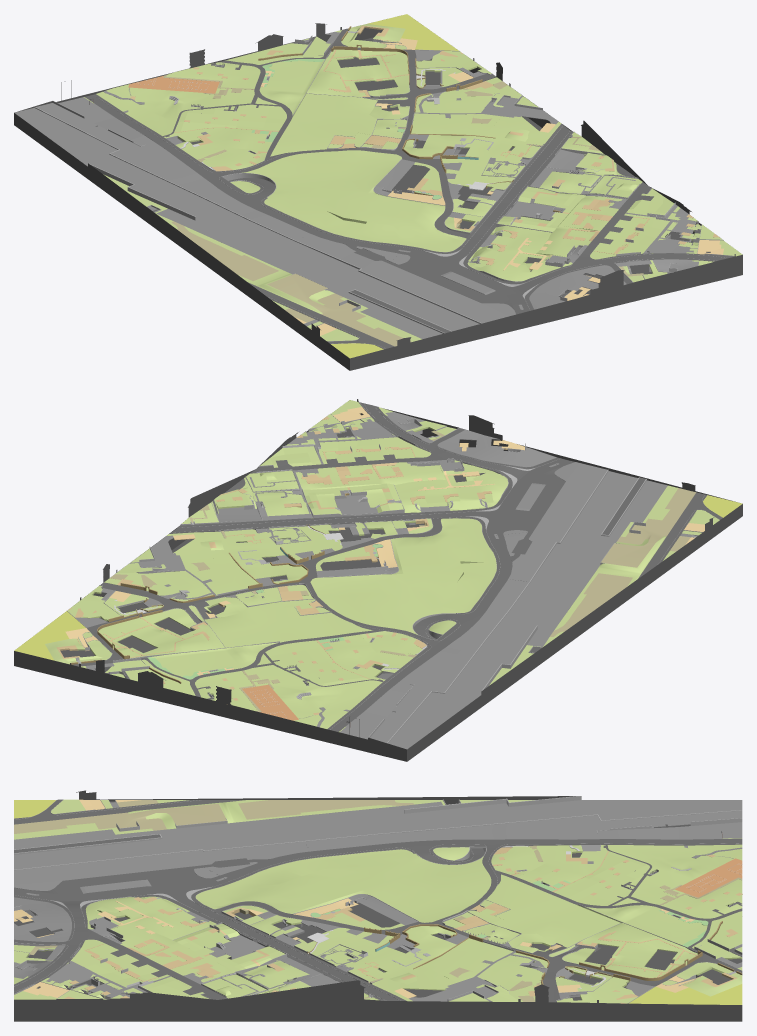
Rendered from altdorf_Terrain_v8.fbx.
The picture shows the model from 3 angles, top to bottom: view 1: azimuth 30°, elevation 25°; view 2: azimuth 150°, elevation 25°; view 3: azimuth 270°, elevation 25°; orthographic projection. The views are drawn at different scales.
Parts seen in each view (by area): view 1: Plane.1310, Plane.1398, Plane.1384, Plane.1395, Plane.799, Plane.1337, Plane.1319, Plane.1405, Plane.1393, Plane.1017, Plane.869, Plane.1347 (+36 smaller); view 2: Plane.1310, Plane.1398, Plane.1384, Plane.1395, Plane.1319, Plane.1337, Plane.799, Plane.1405, Plane.1393, Plane.1017, Plane.1347, Plane.869 (+35 smaller); view 3: Plane.1310, Plane.1398, Plane.1384, Plane.1395, Plane.1337, Plane.799, Plane.1405, Plane.1319, Plane.1393, Plane.869, Plane.1017, Plane.1347 (+50 smaller).
Boxes of the visible parts, <box> form: Plane.1310: <box>14,23,742,370</box>; Plane.1398: <box>242,93,466,252</box>; Plane.1384: <box>14,108,479,339</box>; Plane.1395: <box>36,97,310,240</box>; Plane.799: <box>96,62,260,136</box>; Plane.1337: <box>404,116,561,191</box>; Plane.1319: <box>467,132,642,270</box>; Plane.1405: <box>84,95,529,314</box>; Plane.1393: <box>296,234,515,323</box>; Plane.1017: <box>307,49,409,99</box>; Plane.869: <box>411,89,501,136</box>; Plane.1347: <box>590,188,701,259</box>; Plane.1310: <box>14,399,742,761</box>; Plane.1398: <box>204,518,496,647</box>; Plane.1384: <box>388,471,667,749</box>; Plane.1395: <box>340,579,528,742</box>; Plane.1319: <box>182,460,499,523</box>; Plane.1337: <box>166,524,342,583</box>; Plane.799: <box>195,665,382,728</box>; Plane.1405: <box>330,458,574,731</box>; Plane.1393: <box>508,462,607,581</box>; Plane.1017: <box>98,605,224,658</box>; Plane.1347: <box>260,417,431,467</box>; Plane.869: <box>139,557,258,601</box>; Plane.1310: <box>14,790,742,1021</box>; Plane.1398: <box>195,849,620,947</box>; Plane.1384: <box>14,800,742,869</box>; Plane.1395: <box>305,810,742,851</box>; Plane.1337: <box>295,926,456,1001</box>; Plane.799: <box>607,844,742,918</box>; Plane.1405: <box>14,838,742,901</box>; Plane.1319: <box>87,896,379,1000</box>; Plane.1393: <box>14,841,309,891</box>; Plane.869: <box>422,938,547,992</box>; Plane.1017: <box>549,923,697,977</box>; Plane.1347: <box>41,939,208,999</box>.
Bounding box in the file's own units: 27729 × 2575 × 41052.
